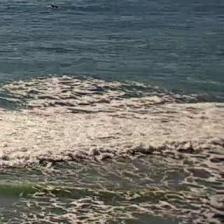surfer: (50, 4, 60, 9)
